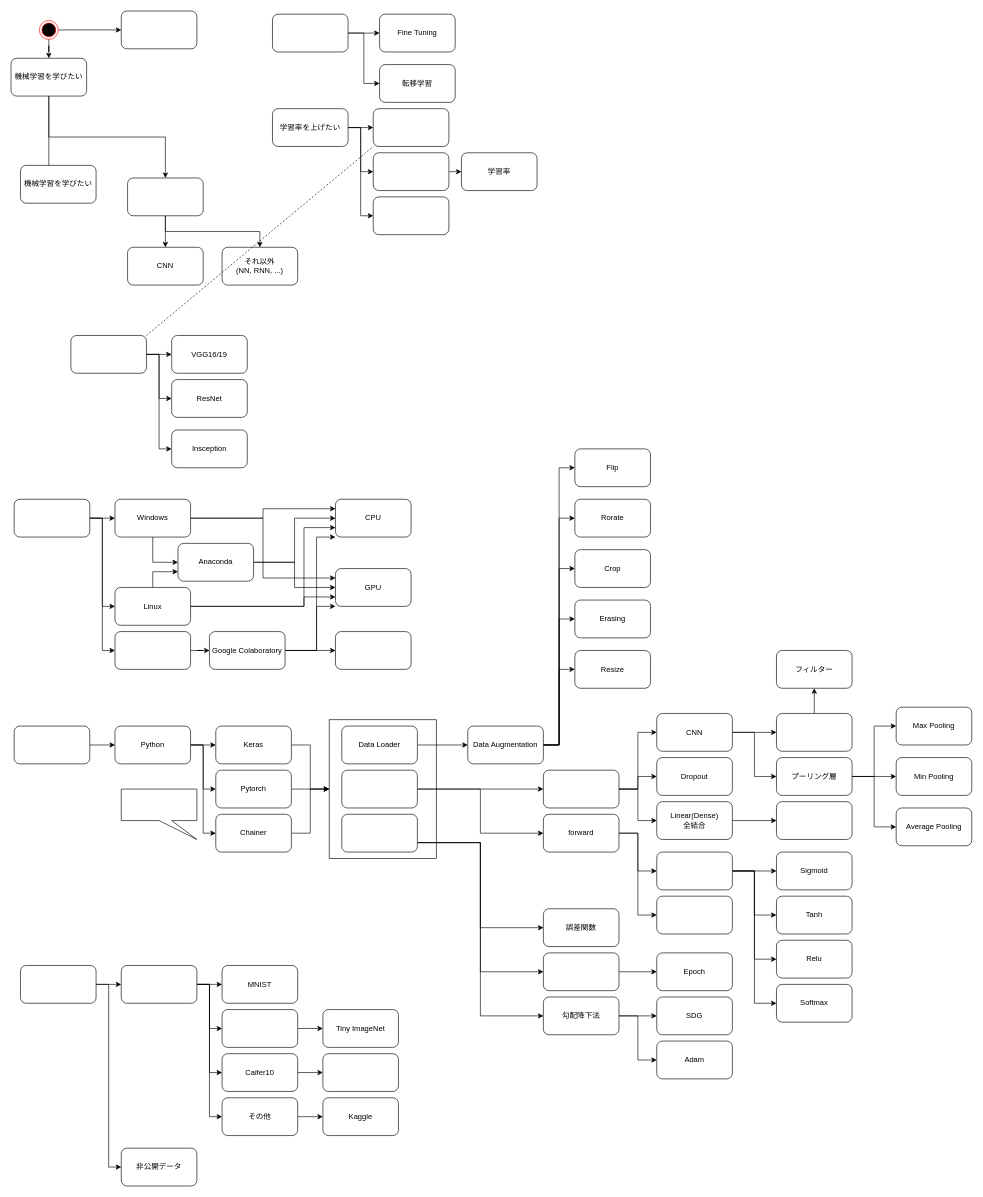
Some shapes in this 983 by 1197 pixel diagram are drawn without their labels. The shapes that lost their labels are listed below. From the top down, each one's centre as x and y in pixels, then its label:
At point (159, 29): "機械学習を利用してAPPを作成する".
At point (310, 33): "学習済みモデルを使用する".
At point (411, 127): "アーキテクチャの選定".
At point (411, 171): "学習パラメータの調整".
At point (165, 196): "深層学習を学びたい".
At point (411, 215): "学習データの調整".
At point (108, 354): "アーキテクチャを選択する".
At point (52, 518): "開発環境".
At point (152, 650): "Web".
At point (373, 650): "TPU".
At point (52, 744): "実行環境".
At point (814, 732): "畳み込み層".
At point (379, 789): "アーキテクチャ".
At point (581, 789): "ネットワーク".
At point (159, 813): "各種ドキュメント".
At point (379, 833): "Optimazer Schedular".
At point (814, 820): "アンサンブル".
At point (694, 870): "活性化関数".
At point (694, 915): "Normalization".
At point (58, 984): "データ準備".
At point (159, 984): "公開データ".
At point (581, 971): "ミニバッチ".
At point (259, 1028): "Image Net".
At point (360, 1072): "Caifer100".
